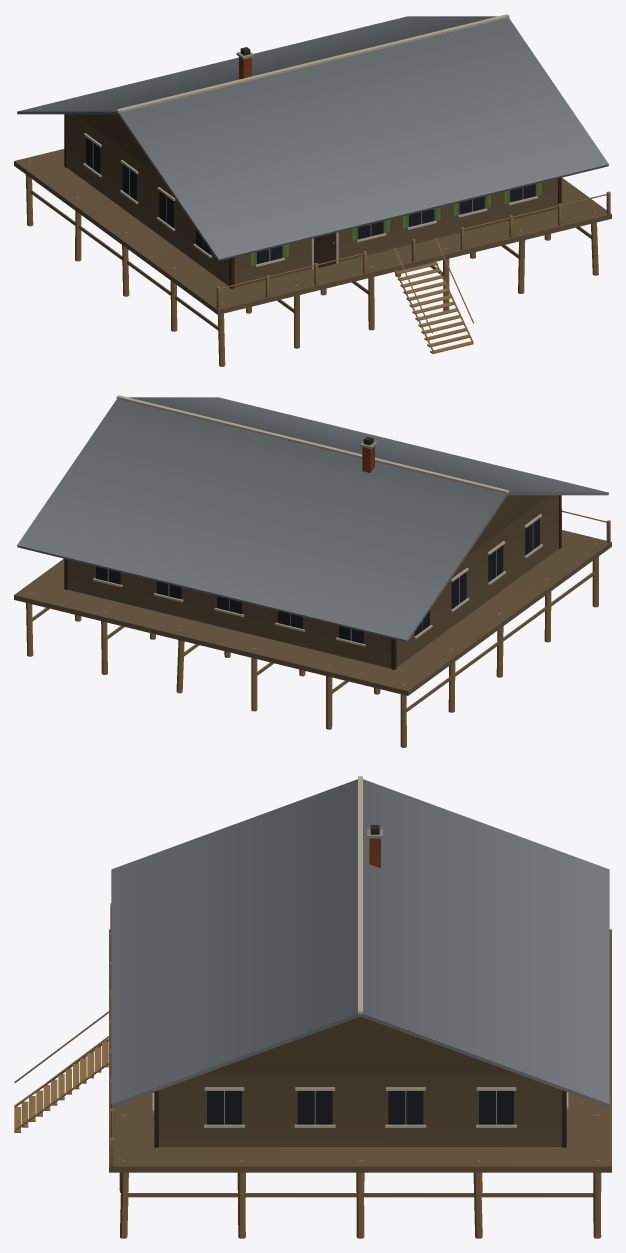
The model's file is shell_bayou_fishcamp.glb.
3 views of the same model, one above another, from view 1: azimuth 30°, elevation 25°; view 2: azimuth 150°, elevation 25°; view 3: azimuth 270°, elevation 25° (orthographic). The views are drawn at different scales.
Visible parts, largest first — view 1: shell_bayou_fishcamp; view 2: shell_bayou_fishcamp; view 3: shell_bayou_fishcamp.
Boxes of the visible parts, left/top/right/bottom form: shell_bayou_fishcamp: left=14, top=14, right=611, bottom=366; shell_bayou_fishcamp: left=14, top=395, right=611, bottom=747; shell_bayou_fishcamp: left=14, top=776, right=611, bottom=1238.
Bounding box in the file's own units: 19.2 × 9.85 × 20.45.
